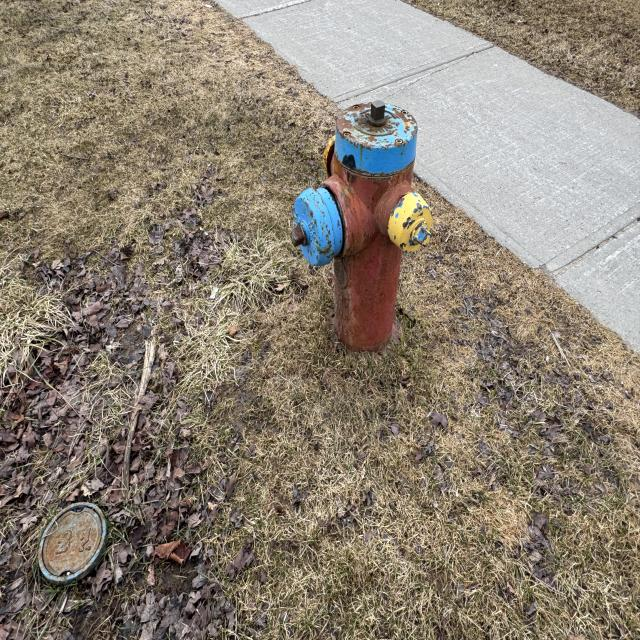Fire hydrant: (290, 100, 434, 364)
